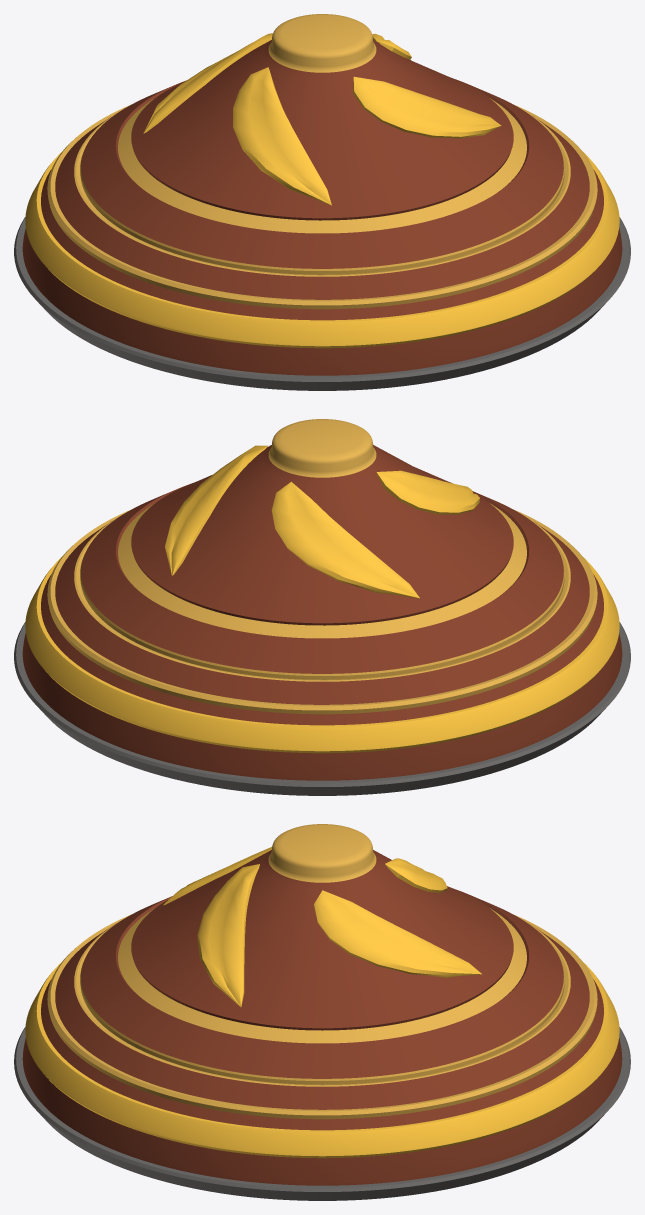
Rendered from gasing_kelantan.glb.
3 views of the same model, one above another, from view 1: azimuth 30°, elevation 25°; view 2: azimuth 150°, elevation 25°; view 3: azimuth 270°, elevation 25° (orthographic).
Visible parts, largest first — view 1: Gasing_kelantan; view 2: Gasing_kelantan; view 3: Gasing_kelantan.
Boxes of the visible parts, <box> form: Gasing_kelantan: <box>14,14,630,390</box>; Gasing_kelantan: <box>14,419,630,795</box>; Gasing_kelantan: <box>14,824,630,1200</box>.
Bounding box in the file's own units: 1.12 × 0.64 × 1.12.
